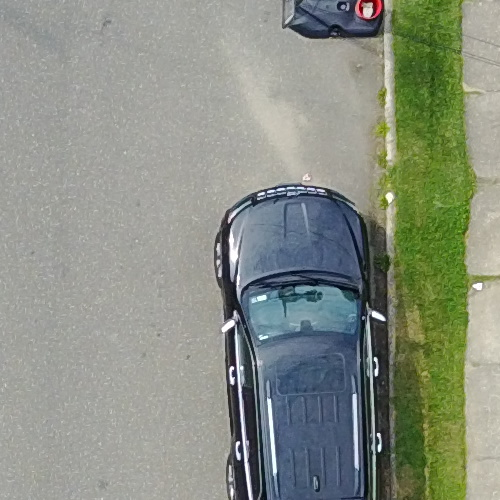container: (351, 1, 388, 28)
